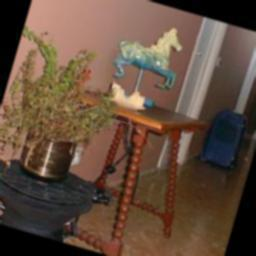Otro Obstaculo: (202, 110, 250, 174)
